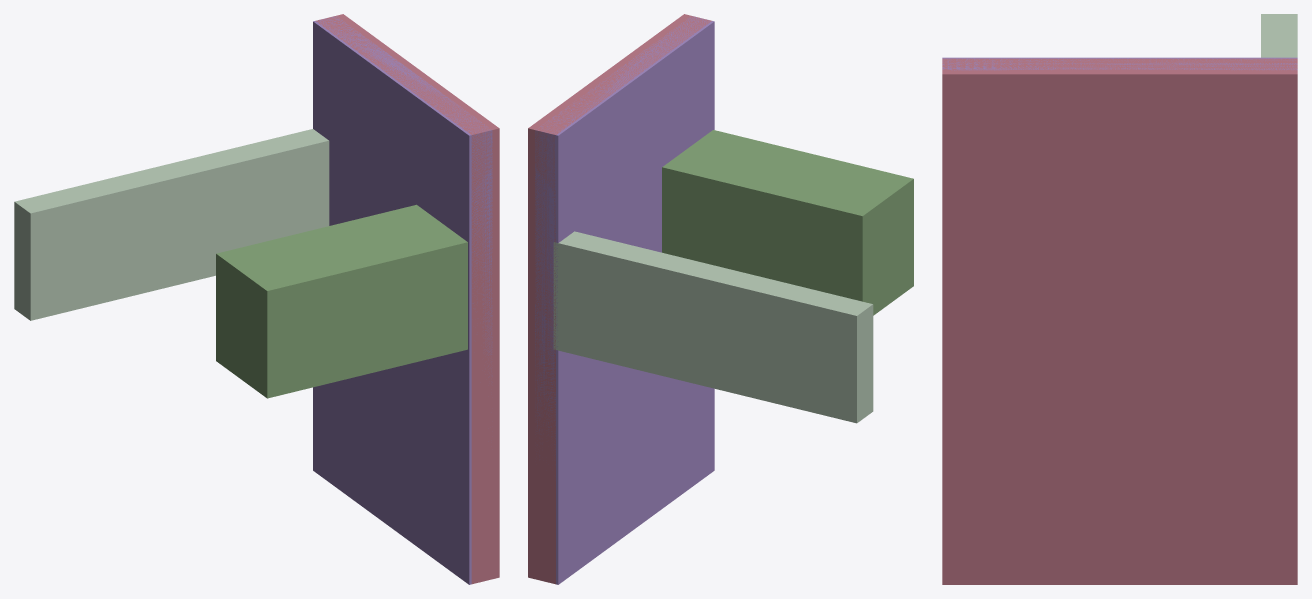
The model's file is 199500_pred.glb.
3 views of the same model, side by side, from view 1: azimuth 30°, elevation 25°; view 2: azimuth 150°, elevation 25°; view 3: azimuth 270°, elevation 25° (orthographic). The views are drawn at different scales.
Visible parts, largest first — view 1: world; view 2: world; view 3: world.
Part boxes in pixels (left/top/right/bottom): world: left=14, top=14, right=499, bottom=584; world: left=528, top=14, right=913, bottom=584; world: left=942, top=14, right=1297, bottom=584.
Bounding box in the file's own units: 7.05 × 9.2 × 5.8.
